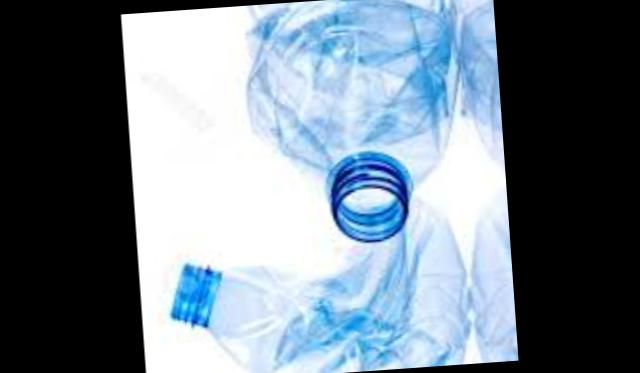plastic: (168, 198, 471, 373), (245, 0, 461, 243)
